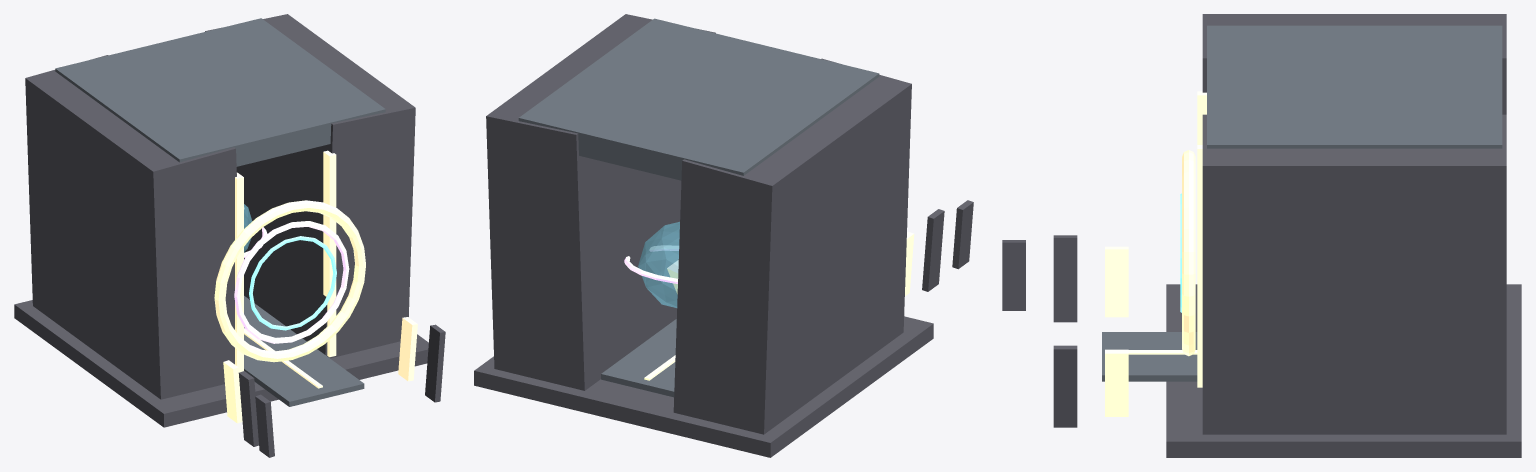
The model's file is vault-reveal-gallery-lod1.876a075a87cc.glb.
The picture shows the model from 3 angles, left to right: view 1: azimuth 30°, elevation 25°; view 2: azimuth 150°, elevation 25°; view 3: azimuth 270°, elevation 25°; orthographic projection. The views are drawn at different scales.
Visible parts, largest first — view 1: vault_monolith_-1, vault_monolith_1, vault_crown, vault_foundation, vault_entry_outer, gallery_spine, vault_entry_mid, vault_gold_rib_1, vault_entry_inner, approach_fin_3, vault_gold_rib_-1, approach_fin_2 (+4 smaller); view 2: vault_monolith_-1, vault_monolith_1, vault_crown, vault_foundation, gallery_spine, reveal_chamber, approach_fin_2, approach_fin_4, reveal_suspension_ring; view 3: vault_monolith_1, vault_crown, vault_foundation, vault_monolith_-1, gallery_spine, vault_entry_outer, approach_fin_2, approach_fin_3, approach_fin_0, approach_fin_4, approach_fin_1, vault_gold_rib_1.
Boxes of the visible parts, bbox=[...] form: vault_monolith_-1: bbox=[25, 55, 236, 399]; vault_monolith_1: bbox=[205, 14, 415, 358]; vault_crown: bbox=[55, 18, 385, 166]; vault_foundation: bbox=[14, 300, 428, 427]; vault_entry_outer: bbox=[214, 200, 365, 362]; gallery_spine: bbox=[244, 296, 364, 406]; vault_entry_mid: bbox=[234, 221, 349, 343]; vault_gold_rib_1: bbox=[323, 150, 336, 357]; vault_entry_inner: bbox=[249, 236, 336, 330]; approach_fin_3: bbox=[425, 324, 445, 402]; vault_gold_rib_-1: bbox=[235, 172, 243, 372]; approach_fin_2: bbox=[238, 371, 258, 446]; vault_monolith_-1: bbox=[673, 58, 911, 434]; vault_monolith_1: bbox=[486, 14, 715, 390]; vault_crown: bbox=[518, 18, 879, 180]; vault_foundation: bbox=[474, 316, 933, 457]; gallery_spine: bbox=[601, 319, 676, 397]; reveal_chamber: bbox=[638, 221, 679, 307]; approach_fin_2: bbox=[922, 209, 944, 291]; approach_fin_4: bbox=[952, 200, 973, 269]; reveal_suspension_ring: bbox=[624, 245, 678, 283]; vault_monolith_1: bbox=[1202, 114, 1506, 434]; vault_crown: bbox=[1207, 25, 1502, 148]; vault_foundation: bbox=[1166, 284, 1521, 457]; vault_monolith_-1: bbox=[1202, 14, 1506, 114]; gallery_spine: bbox=[1102, 332, 1197, 381]; vault_entry_outer: bbox=[1182, 150, 1195, 356]; approach_fin_2: bbox=[1053, 235, 1077, 322]; approach_fin_3: bbox=[1053, 345, 1077, 427]; approach_fin_0: bbox=[1105, 246, 1128, 317]; approach_fin_4: bbox=[1002, 240, 1025, 310]; approach_fin_1: bbox=[1105, 349, 1128, 416]; vault_gold_rib_1: bbox=[1197, 145, 1202, 387].
Size of the model in its own units: 8.7 by 7.57 by 12.12.
